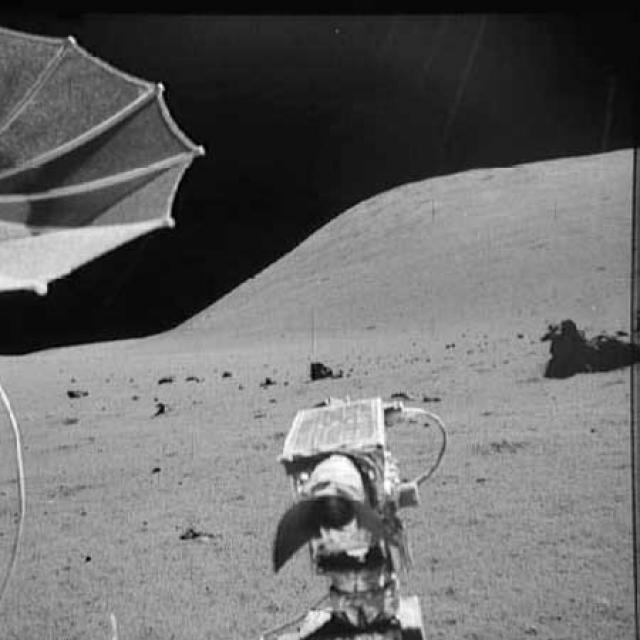artifact: (0, 30, 212, 297), (265, 396, 452, 638), (0, 387, 44, 613)
crater: (467, 427, 563, 458)
rock: (542, 311, 638, 377), (174, 518, 212, 548), (311, 355, 343, 385), (60, 382, 88, 404), (156, 373, 173, 388)
